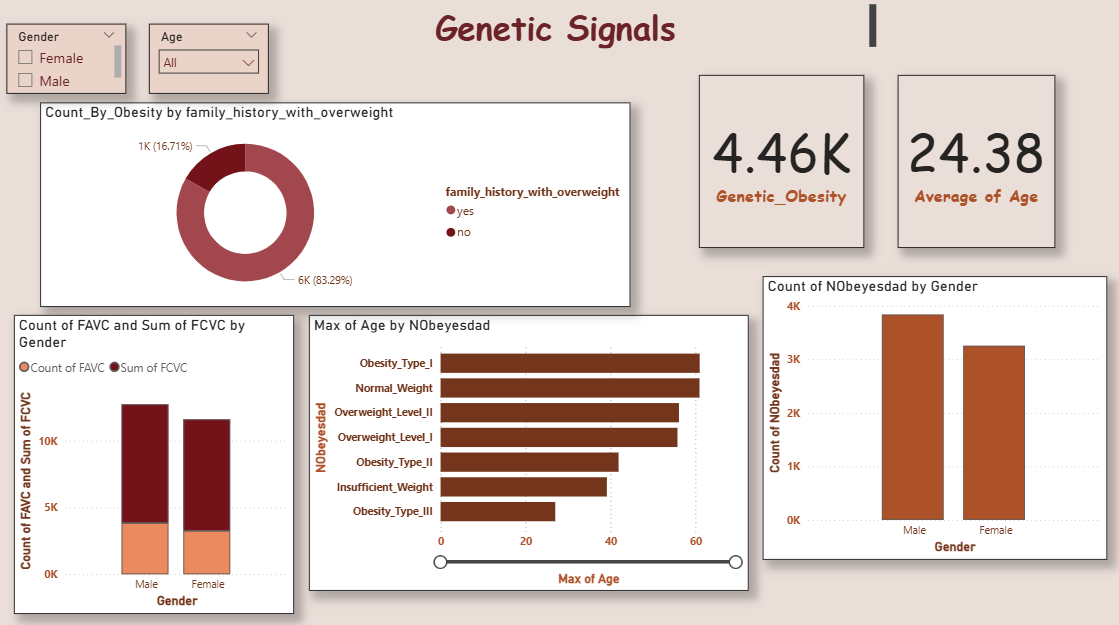

This screenshot's page, from the dashboard's own definition file:
{"tool":"powerbi","page":{"name":"report 1","canvas":[1280,720],"ordinal":0},"visuals":[{"type":"textbox","box":[271.2,0,736.2,60],"z":1000},{"type":"card","fields":{"Values":["Avg(ObesityDataSet_clean.Age)"]},"box":[1027.8,85.6,180,197.8],"z":2000},{"type":"card","fields":{"Values":["Sum(ObesityDataSet_clean.Genetic_Obesity_Risk)"]},"box":[800,85.6,188.9,197.8],"z":3000},{"type":"clusteredBarChart","fields":{"Y":["Max(ObesityDataSet_clean.Age)"],"Category":["ObesityDataSet_clean.NObeyesdad"]},"box":[355,360,502.5,315],"z":4000},{"type":"donutChart","fields":{"Category":["ObesityDataSet_clean.family_history_with_overweight"],"Y":["ObesityDataSet_clean.Count_By_Obesity"]},"box":[47.8,116.7,674.4,233.3],"z":5000},{"type":"columnChart","fields":{"Category":["ObesityDataSet_clean.Gender"],"Y":["CountNonNull(ObesityDataSet_clean.NObeyesdad)"]},"box":[872.5,315,393.8,323.8],"z":6000},{"type":"slicer","fields":{"Values":["ObesityDataSet_clean.Gender"]},"box":[8.9,26.7,136.7,80],"z":7000},{"type":"slicer","fields":{"Values":["ObesityDataSet_clean.Age"]},"box":[171.1,26.7,136.7,80],"z":8000},{"type":"columnChart","fields":{"Category":["ObesityDataSet_clean.Gender"],"Y":["CountNonNull(ObesityDataSet_clean.FAVC)","Sum(ObesityDataSet_clean.FCVC)"]},"box":[17.5,360,320,341.2],"z":9000}]}

Visuals, with their boxes in screenshot pixels (x1, y1, x2, y2), scaled from the page's 1280x720 canvas onto the 1119x625 screenshot:
textbox: [left=237, top=0, right=881, bottom=52]
card - Avg(ObesityDataSet_clean.Age): [left=899, top=74, right=1056, bottom=246]
card - Sum(ObesityDataSet_clean.Genetic_Obesity_Risk): [left=699, top=74, right=865, bottom=246]
clusteredBarChart - Max(ObesityDataSet_clean.Age) x ObesityDataSet_clean.NObeyesdad: [left=310, top=312, right=750, bottom=586]
donutChart - ObesityDataSet_clean.family_history_with_overweight x ObesityDataSet_clean.Count_By_Obesity: [left=42, top=101, right=631, bottom=304]
columnChart - ObesityDataSet_clean.Gender x CountNonNull(ObesityDataSet_clean.NObeyesdad): [left=763, top=273, right=1107, bottom=555]
slicer - ObesityDataSet_clean.Gender: [left=8, top=23, right=127, bottom=93]
slicer - ObesityDataSet_clean.Age: [left=150, top=23, right=269, bottom=93]
columnChart - ObesityDataSet_clean.Gender x CountNonNull(ObesityDataSet_clean.FAVC): [left=15, top=312, right=295, bottom=609]
